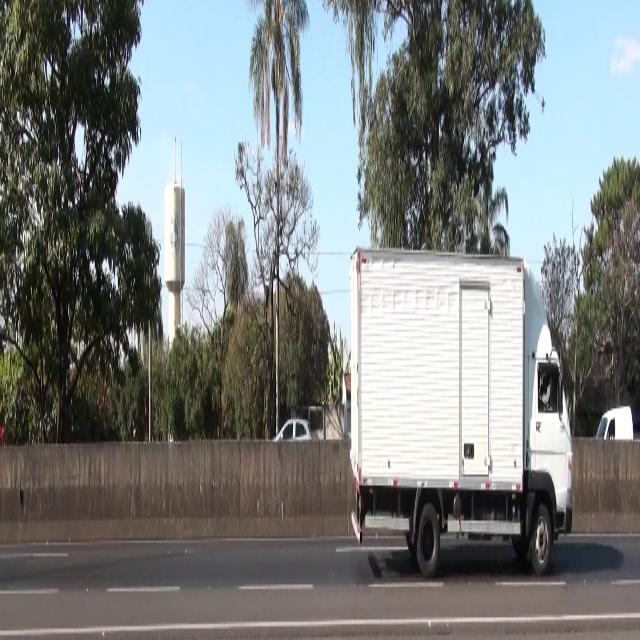-axle: (412, 496, 442, 582), (528, 487, 552, 583)
